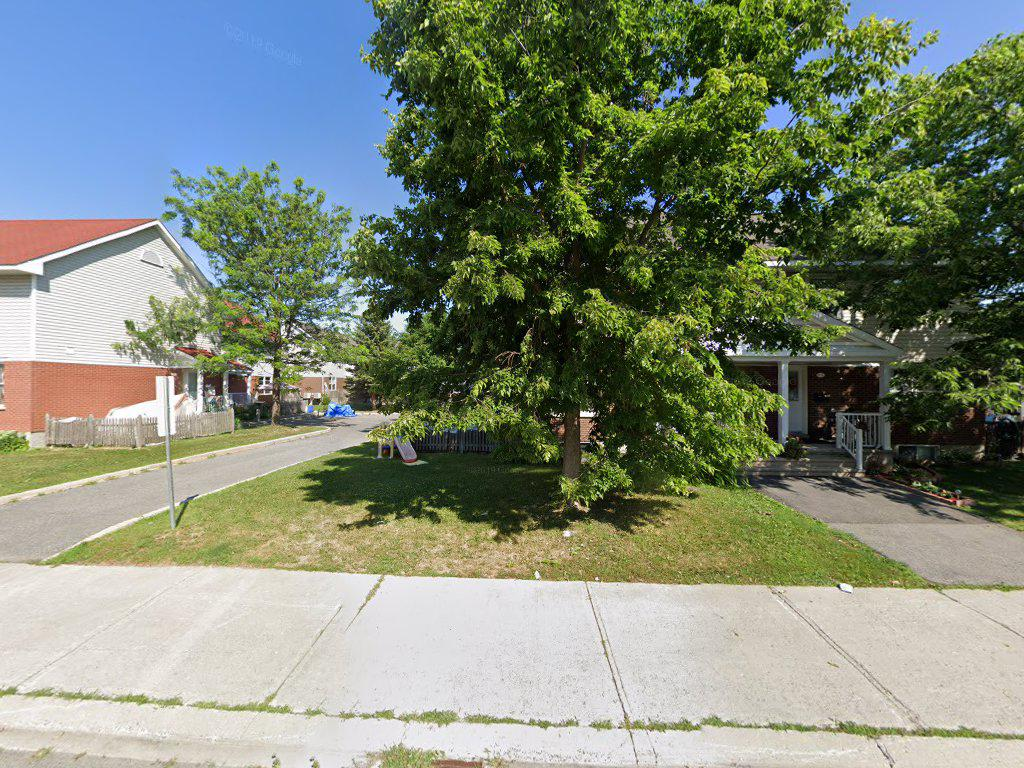trunk: (561, 389, 588, 509)
